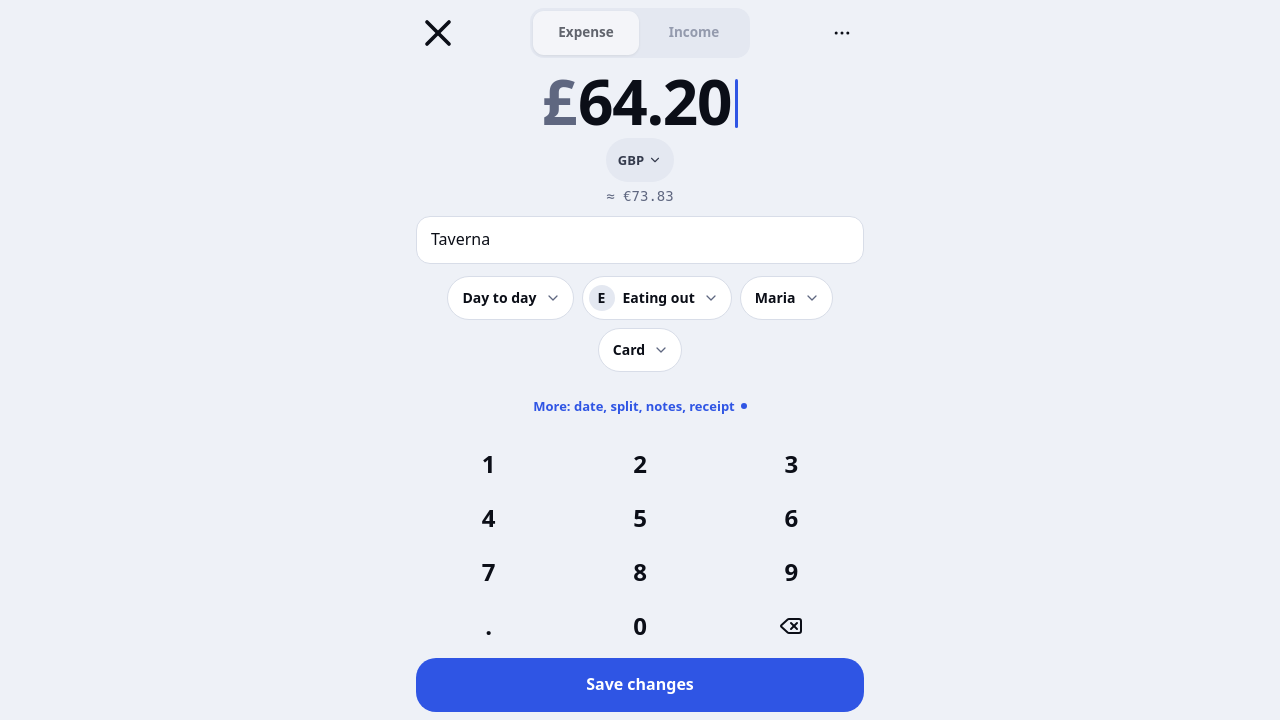
an edited foreign entry switched to the household currency keeps the currency on the form
What coordinates should you click on to do the following:
click the button with aria-label "Currency: GBP. Change"
I would click on:
 (640, 160)
Its box is [606, 138, 674, 182].
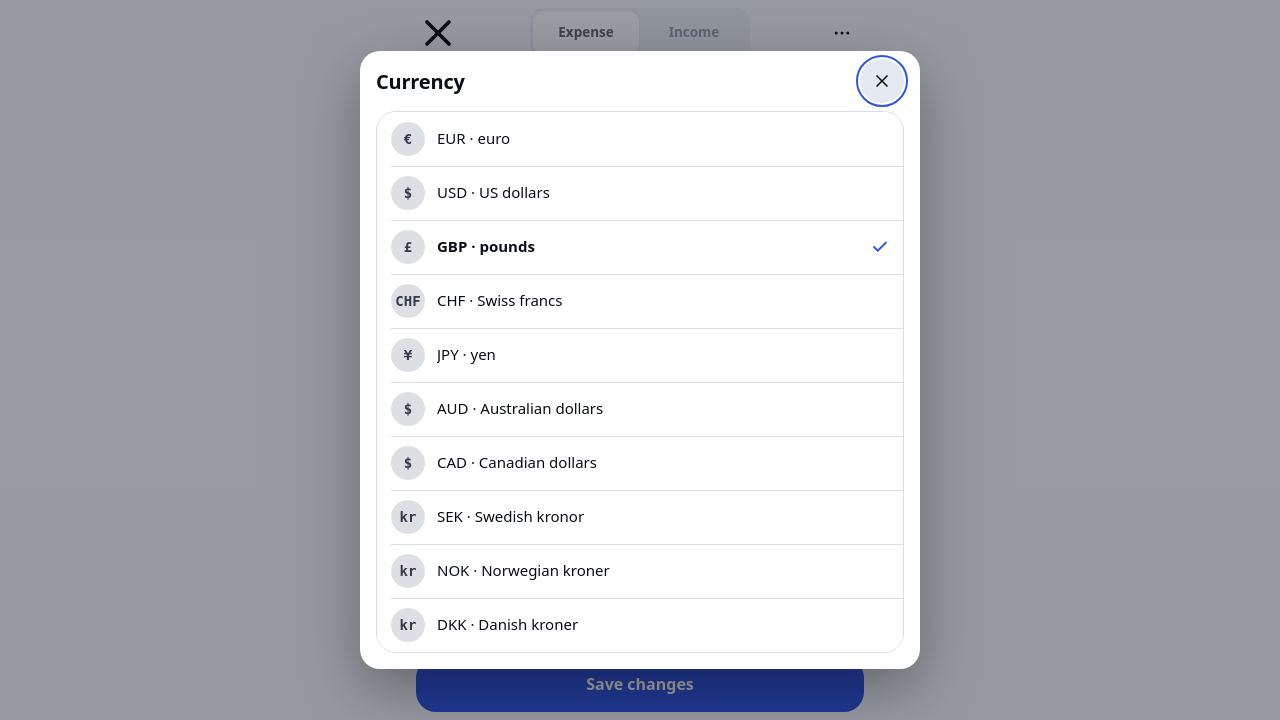
What coordinates should you click on to do the following:
click the button "€ EUR · euro"
I would click on:
 (408, 139)
Its box is [377, 112, 903, 166].
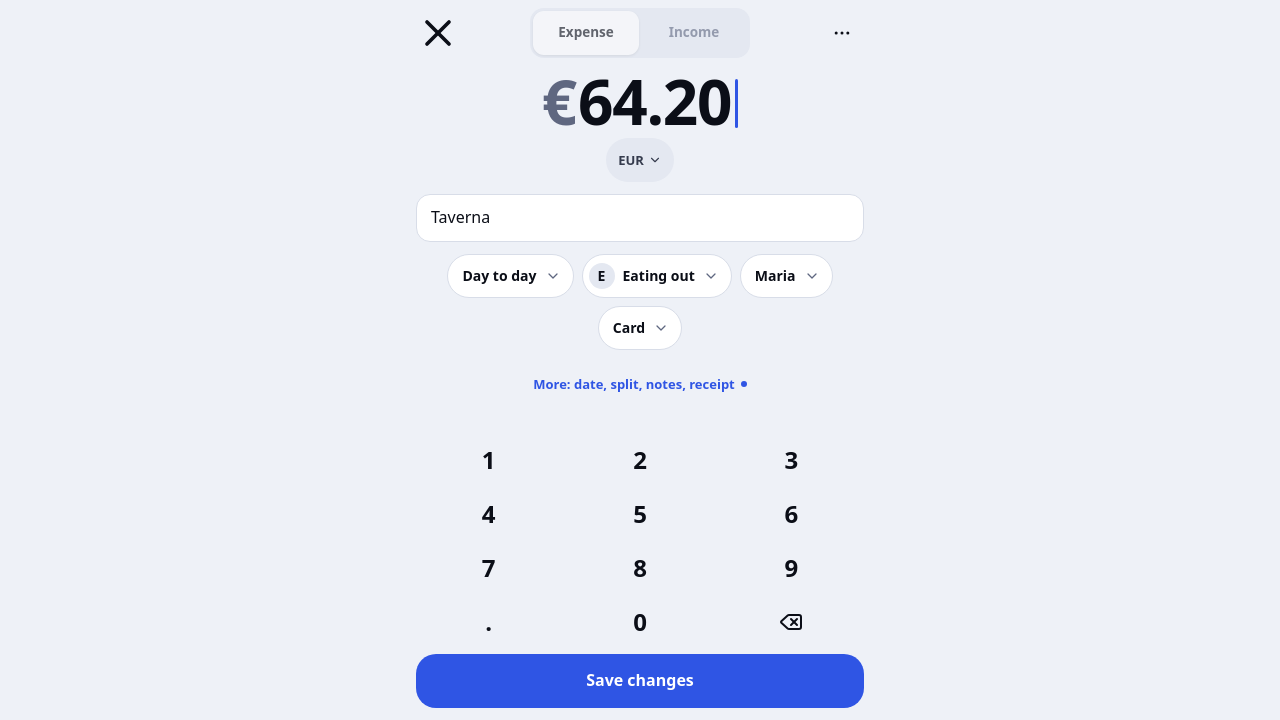
Check: the button with aria-label "Currency: EUR. Change" is shown, box [606, 138, 674, 182]
